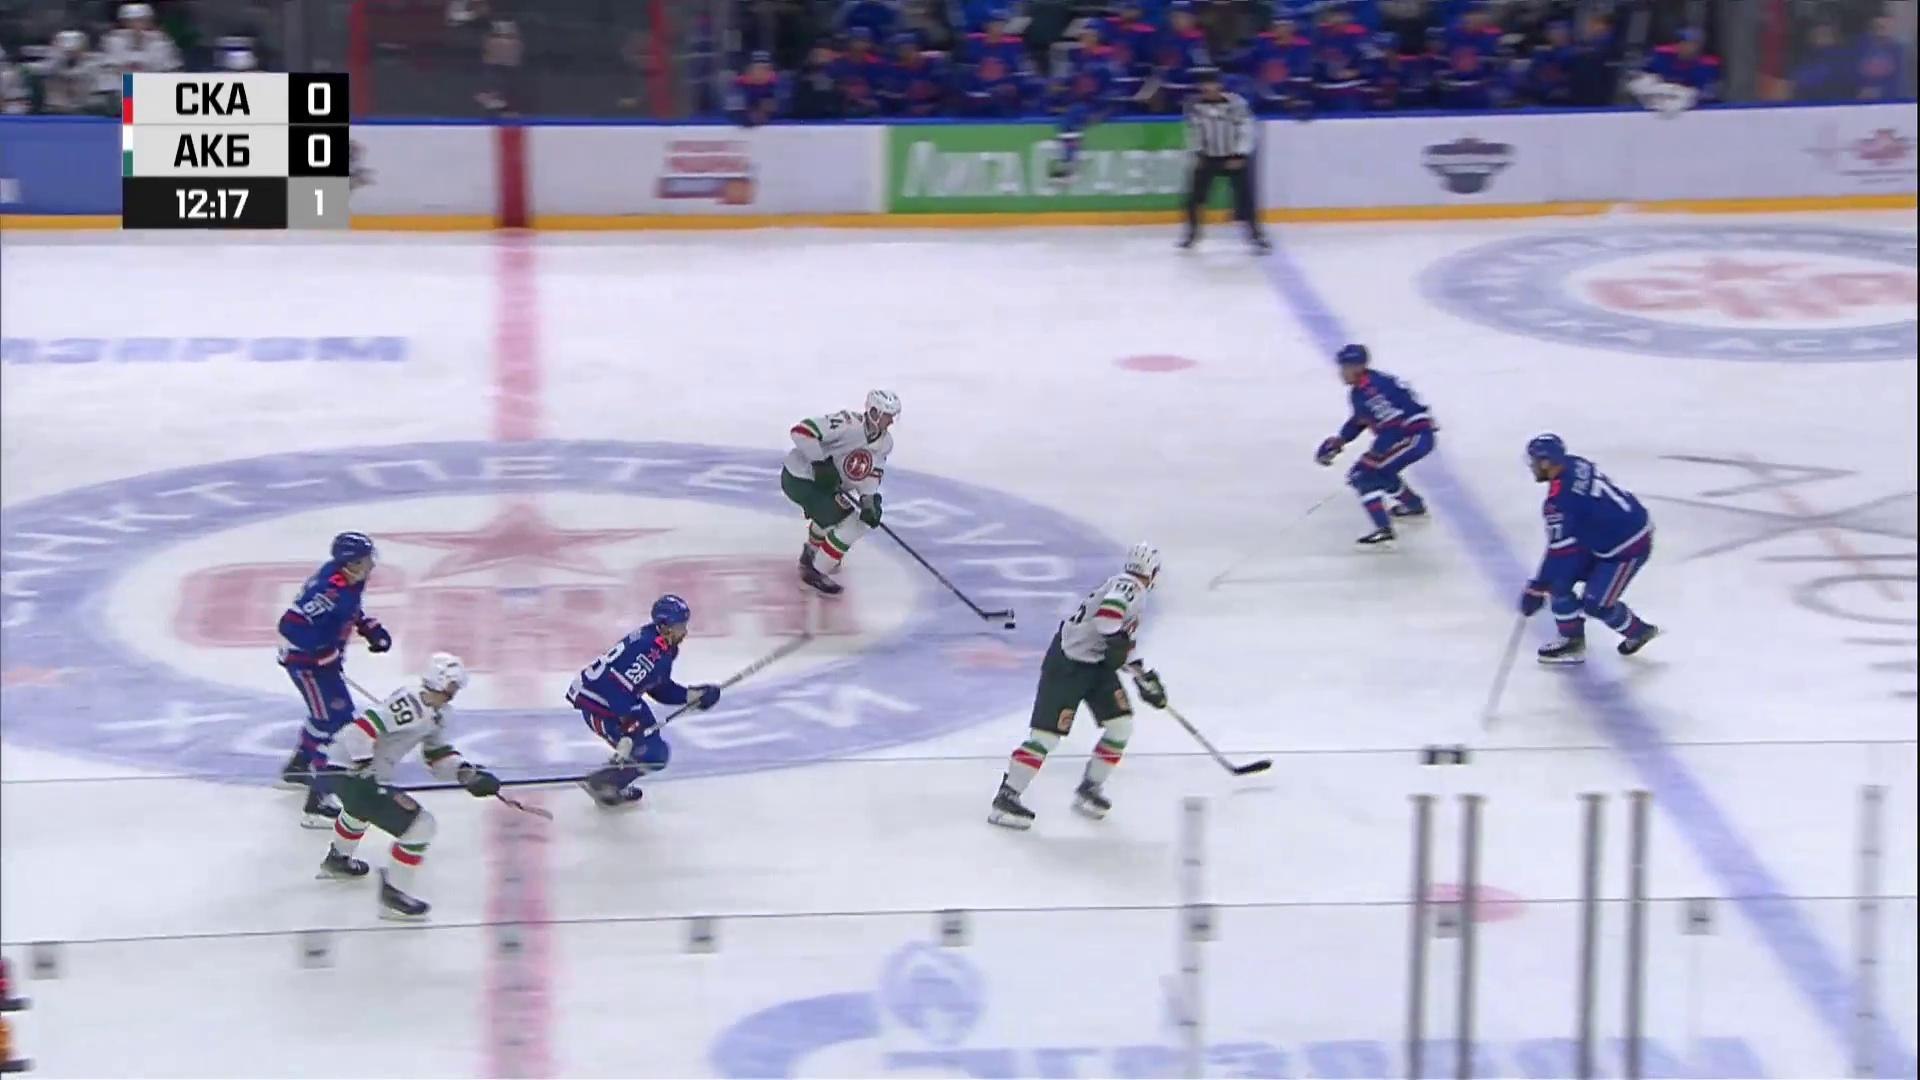ball: (1004, 622, 1017, 630)
